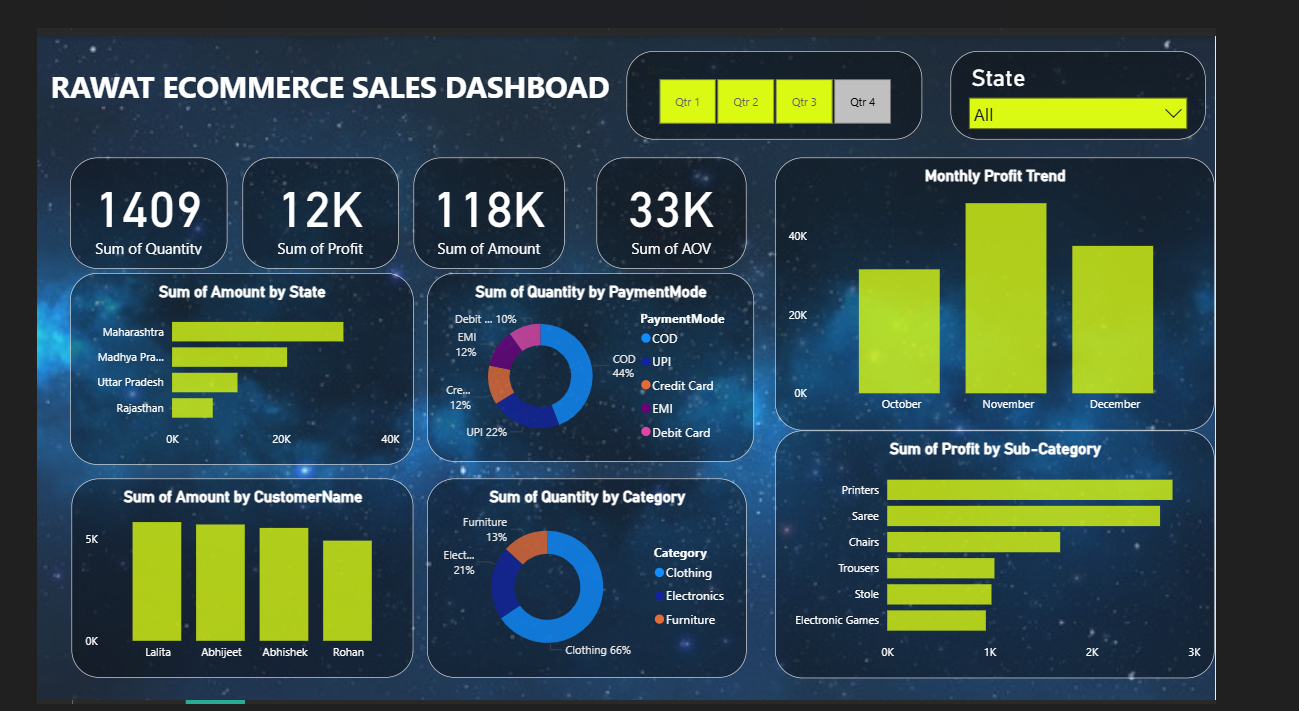

Layout of this report page (visuals, bound fields, positions):
{"tool":"powerbi","page":{"name":"Page 1","canvas":[1280,720],"ordinal":0},"visuals":[{"type":"textbox","box":[13,27.7,736.8,84.6],"z":0},{"type":"columnChart","title":"Monthly Profit Trend","fields":{"Category":["Orders.Order Date.Variation.Date Hierarchy.Month"],"Y":["Sum(Details (1).Amount)"]},"box":[803.5,131.8,476.6,296],"z":1000},{"type":"barChart","fields":{"Category":["Details (1).Sub-Category"],"Y":["Sum(Details (1).Profit)"]},"box":[803.5,427.8,476.6,268.4],"z":2000},{"type":"donutChart","fields":{"Category":["Details (1).Category"],"Y":["Sum(Details (1).Quantity)"]},"box":[426.2,479.8,346.5,216.3],"z":3000},{"type":"donutChart","fields":{"Category":["Details (1).PaymentMode"],"Y":["Sum(Details (1).Quantity)"]},"box":[426.2,257,354.6,204.9],"z":4000},{"type":"card","fields":{"Values":["Sum(Details (1).Profit)"]},"box":[226.1,131.8,169.2,120.4],"z":5000},{"type":"card","fields":{"Values":["Sum(Details (1).Quantity)"]},"box":[39,131.8,170.8,120.4],"z":6000},{"type":"card","fields":{"Values":["Sum(Details (1).Amount)"]},"box":[411.5,131.8,164.3,120.4],"z":7000},{"type":"card","fields":{"Values":["Sum(Details (1).AOV)"]},"box":[610,131.8,162.7,120.4],"z":8000},{"type":"barChart","fields":{"Category":["Orders.State"],"Y":["Sum(Details (1).Amount)"]},"box":[39,257,372.5,208.2],"z":9000},{"type":"columnChart","fields":{"Category":["Orders.CustomerName"],"Y":["Sum(Details (1).Amount)"]},"box":[40.7,479.8,370.9,216.3],"z":10000},{"type":"slicer","fields":{"Values":["Orders.Order Date.Variation.Date Hierarchy.Quarter"]},"box":[642.5,16.3,320.4,96],"z":11000},{"type":"slicer","fields":{"Values":["Orders.State"]},"box":[993.8,16.3,276.5,96],"z":12000}]}

Visuals, with their boxes in screenshot pixels (x1, y1, x2, y2), scaled from the page's 1280x720 canvas onto the 1299x711 screenshot:
textbox: [left=13, top=27, right=761, bottom=111]
"Monthly Profit Trend" columnChart: [left=815, top=130, right=1298, bottom=422]
barChart - Details (1).Sub-Category x Sum(Details (1).Profit): [left=815, top=422, right=1298, bottom=687]
donutChart - Details (1).Category x Sum(Details (1).Quantity): [left=433, top=474, right=784, bottom=687]
donutChart - Details (1).PaymentMode x Sum(Details (1).Quantity): [left=433, top=254, right=792, bottom=456]
card - Sum(Details (1).Profit): [left=229, top=130, right=401, bottom=249]
card - Sum(Details (1).Quantity): [left=40, top=130, right=213, bottom=249]
card - Sum(Details (1).Amount): [left=418, top=130, right=584, bottom=249]
card - Sum(Details (1).AOV): [left=619, top=130, right=784, bottom=249]
barChart - Orders.State x Sum(Details (1).Amount): [left=40, top=254, right=418, bottom=459]
columnChart - Orders.CustomerName x Sum(Details (1).Amount): [left=41, top=474, right=418, bottom=687]
slicer - Orders.Order Date.Variation.Date Hierarchy.Quarter: [left=652, top=16, right=977, bottom=111]
slicer - Orders.State: [left=1009, top=16, right=1289, bottom=111]
